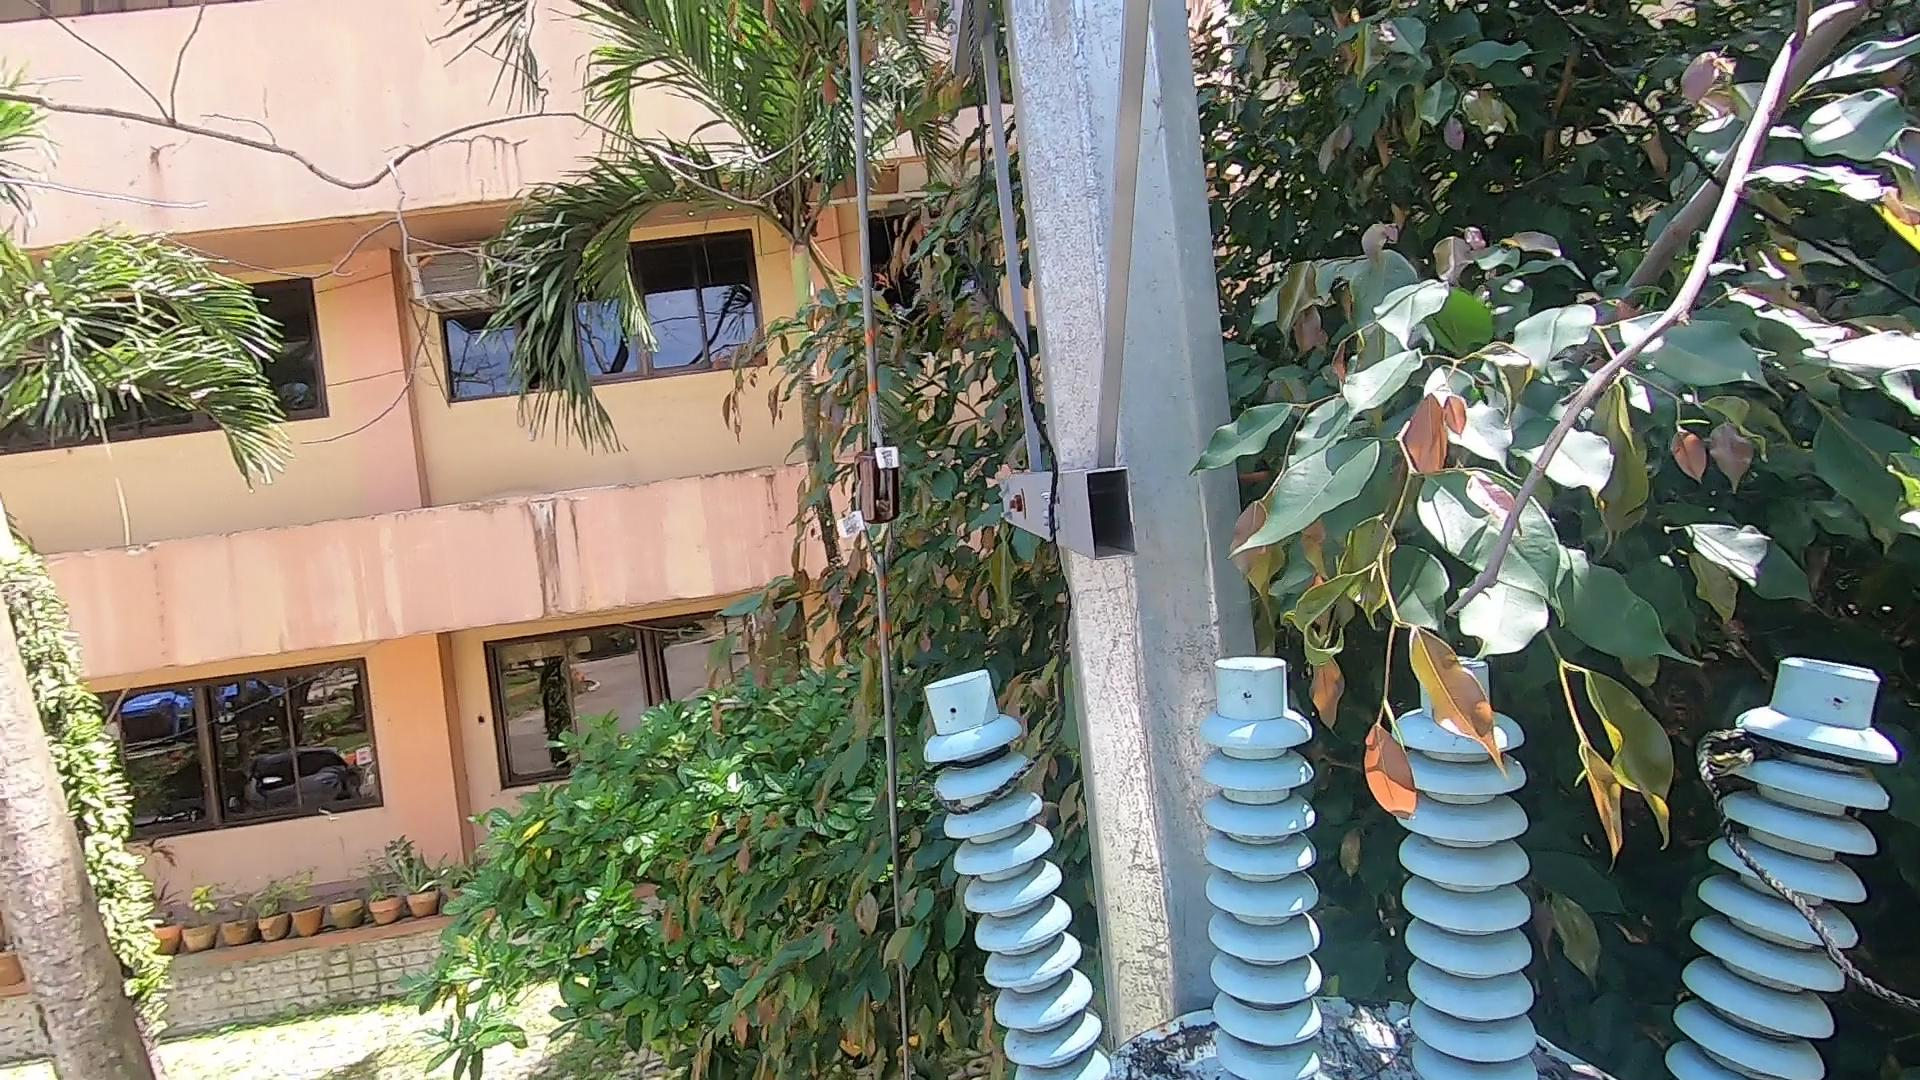tree branch: (1424, 1, 1879, 640)
